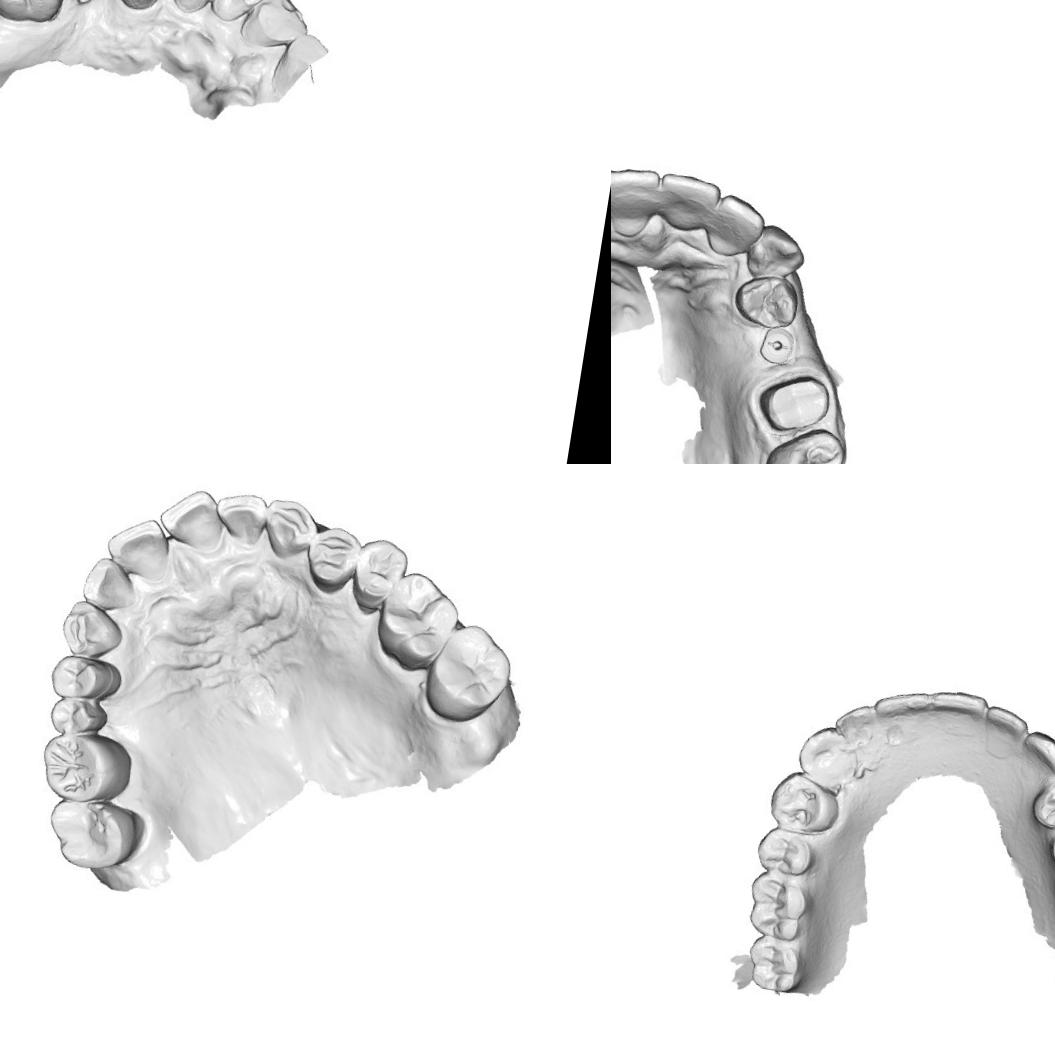canine: (793, 718, 863, 788), (55, 600, 128, 666), (258, 492, 322, 565), (742, 220, 809, 287), (1017, 725, 1055, 780), (155, 0, 227, 23)
crown: (762, 370, 827, 434)
implant_minus: (753, 324, 797, 365)
incisor: (649, 168, 726, 238), (236, 0, 316, 60), (160, 488, 229, 556), (705, 190, 770, 256), (872, 672, 940, 735), (106, 516, 174, 578), (611, 160, 662, 240), (215, 489, 274, 550), (78, 557, 138, 614), (931, 689, 993, 742), (981, 700, 1030, 749), (834, 702, 882, 751), (208, 0, 271, 28)
molar: (43, 792, 150, 878), (429, 624, 518, 722), (375, 572, 460, 670), (38, 726, 136, 808), (741, 867, 814, 944), (742, 932, 810, 999), (756, 420, 849, 464), (0, 0, 74, 31)
premolar: (766, 768, 842, 839), (345, 530, 408, 612), (302, 518, 362, 594), (731, 268, 799, 328), (749, 822, 816, 882), (45, 690, 110, 739), (53, 653, 119, 696), (1029, 768, 1055, 834)
